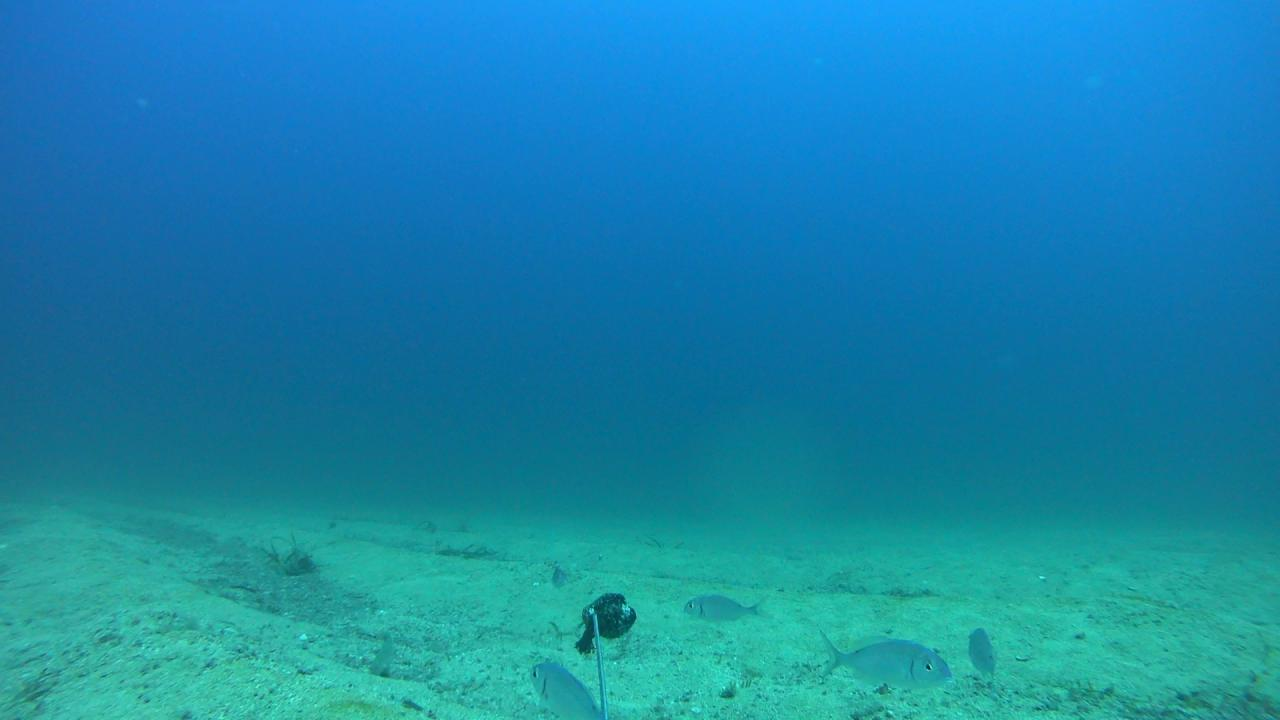pagellus: (817, 624, 951, 690), (682, 593, 771, 623)
